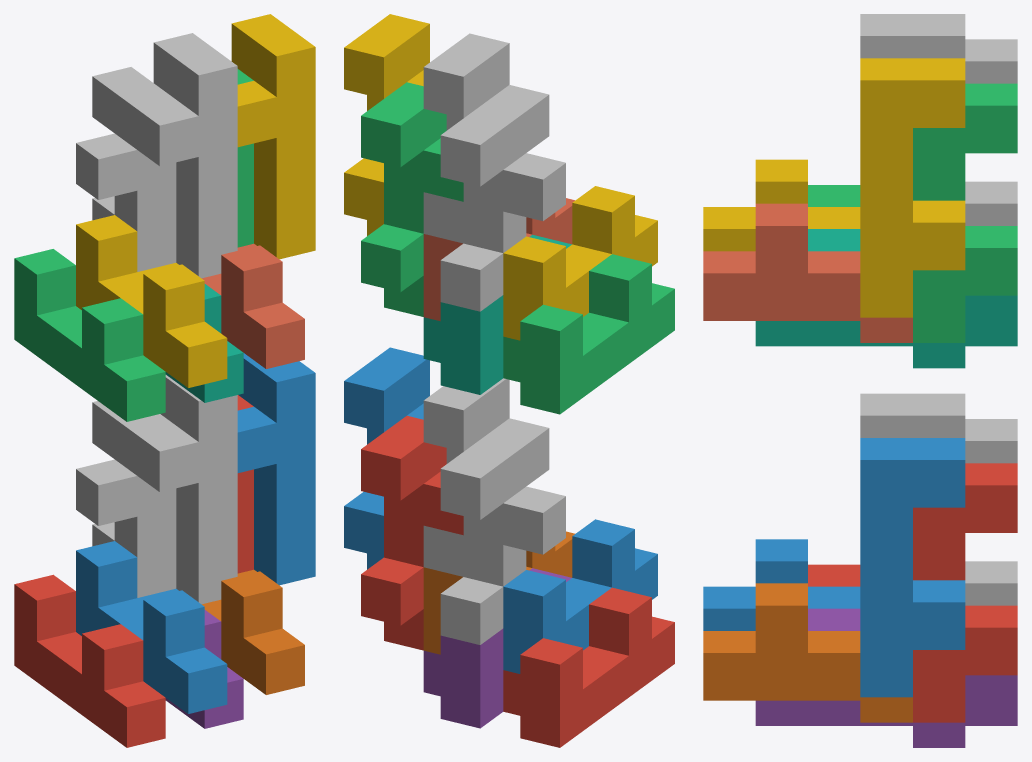
The model's file is tiling.obj.
The picture shows the model from 3 angles, left to right: view 1: azimuth 30°, elevation 25°; view 2: azimuth 150°, elevation 25°; view 3: azimuth 270°, elevation 25°; orthographic projection. The views are drawn at different scales.
Parts seen in each view (by area): view 1: copy_2_domain_4, copy_2_domain_8, copy_2_domain_2, copy_2_domain_6, copy_1_domain_1, copy_1_domain_3, copy_1_domain_2, copy_1_domain_4, copy_2_domain_3, copy_2_domain_1, copy_1_domain_6, copy_1_domain_8 (+4 smaller); view 2: copy_2_domain_3, copy_2_domain_1, copy_1_domain_1, copy_1_domain_3, copy_2_domain_5, copy_2_domain_7, copy_1_domain_2, copy_1_domain_4, copy_2_domain_4, copy_2_domain_2, copy_2_domain_8, copy_2_domain_6 (+4 smaller); view 3: copy_2_domain_8, copy_2_domain_6, copy_2_domain_5, copy_2_domain_7, copy_1_domain_6, copy_1_domain_8, copy_1_domain_7, copy_1_domain_5, copy_1_domain_2, copy_1_domain_4, copy_2_domain_1, copy_2_domain_3 (+4 smaller).
Part boxes in pixels (x1,y1,x2,y2): copy_2_domain_4: [137, 33, 237, 278]; copy_2_domain_8: [231, 14, 315, 259]; copy_2_domain_2: [137, 375, 237, 604]; copy_2_domain_6: [237, 353, 315, 585]; copy_1_domain_1: [14, 574, 165, 747]; copy_1_domain_3: [14, 249, 165, 421]; copy_1_domain_2: [76, 541, 227, 713]; copy_1_domain_4: [76, 215, 227, 387]; copy_2_domain_3: [76, 67, 176, 271]; copy_2_domain_1: [76, 401, 176, 597]; copy_1_domain_6: [202, 569, 304, 694]; copy_1_domain_8: [202, 243, 304, 368]; copy_2_domain_3: [440, 101, 565, 311]; copy_2_domain_1: [440, 435, 565, 644]; copy_1_domain_1: [503, 587, 674, 747]; copy_1_domain_3: [503, 254, 674, 414]; copy_2_domain_5: [361, 415, 463, 650]; copy_2_domain_7: [361, 82, 463, 316]; copy_1_domain_2: [503, 519, 657, 673]; copy_1_domain_4: [503, 186, 657, 340]; copy_2_domain_4: [423, 33, 549, 243]; copy_2_domain_2: [423, 378, 549, 576]; copy_2_domain_8: [344, 14, 429, 235]; copy_2_domain_6: [344, 347, 429, 569]; copy_2_domain_8: [860, 58, 965, 317]; copy_2_domain_6: [860, 438, 965, 697]; copy_2_domain_5: [913, 463, 1017, 722]; copy_2_domain_7: [913, 83, 1017, 342]; copy_1_domain_6: [703, 583, 912, 722]; copy_1_domain_8: [703, 203, 912, 342]; copy_1_domain_7: [755, 229, 1017, 368]; copy_1_domain_5: [755, 608, 1017, 747]; copy_1_domain_2: [703, 539, 860, 630]; copy_1_domain_4: [703, 159, 860, 251]; copy_2_domain_1: [965, 419, 1017, 605]; copy_2_domain_3: [965, 39, 1017, 225].
Bounding box in the file's own units: 6 × 15 × 6.
